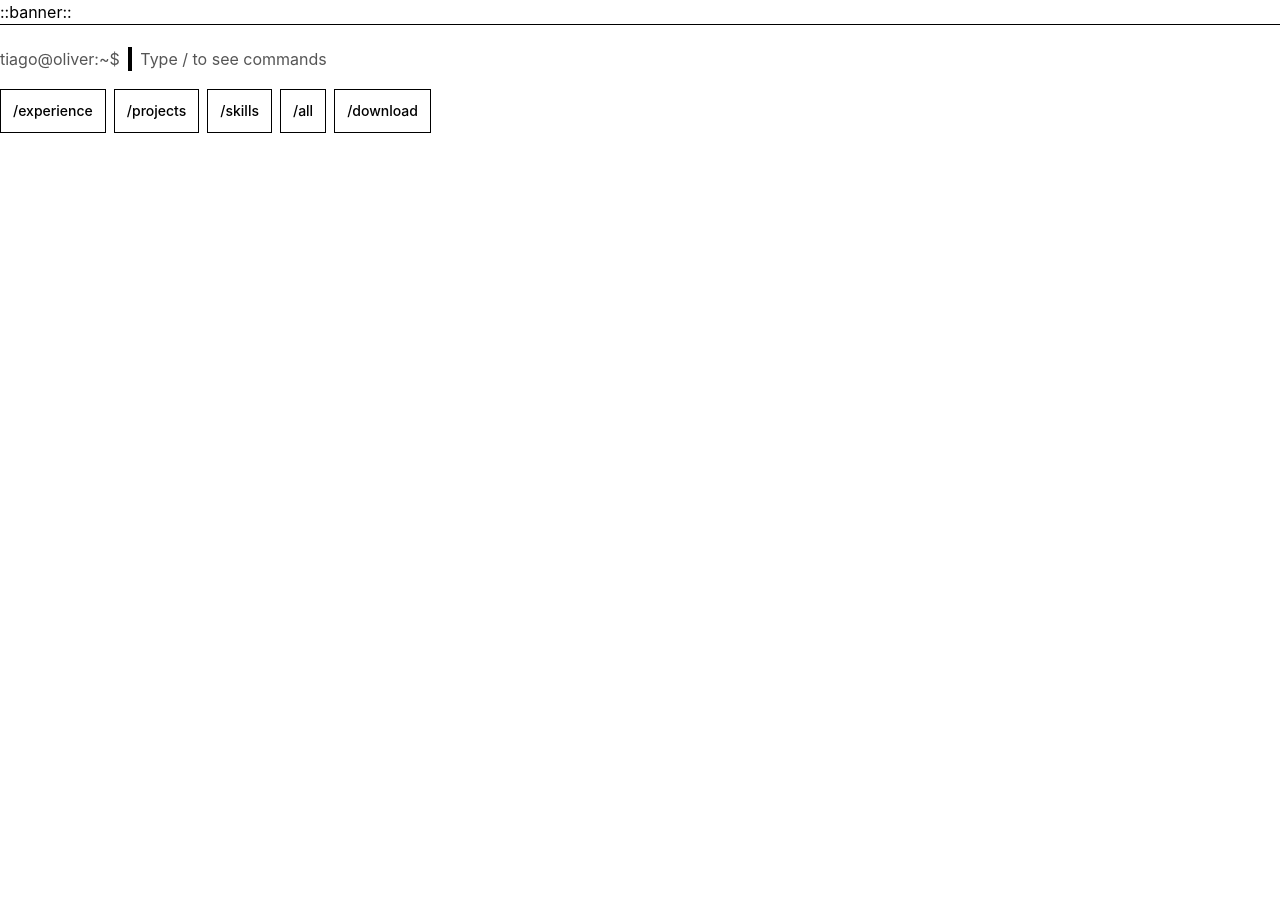
Test: Terminal › Given theme, should switch to the dark theme and say so
The image size is (1280, 900).
Type "/theme" into the dropdown named "Command".
click(704, 59); type("/theme")  # box [128, 37, 1279, 81]
Then press Enter
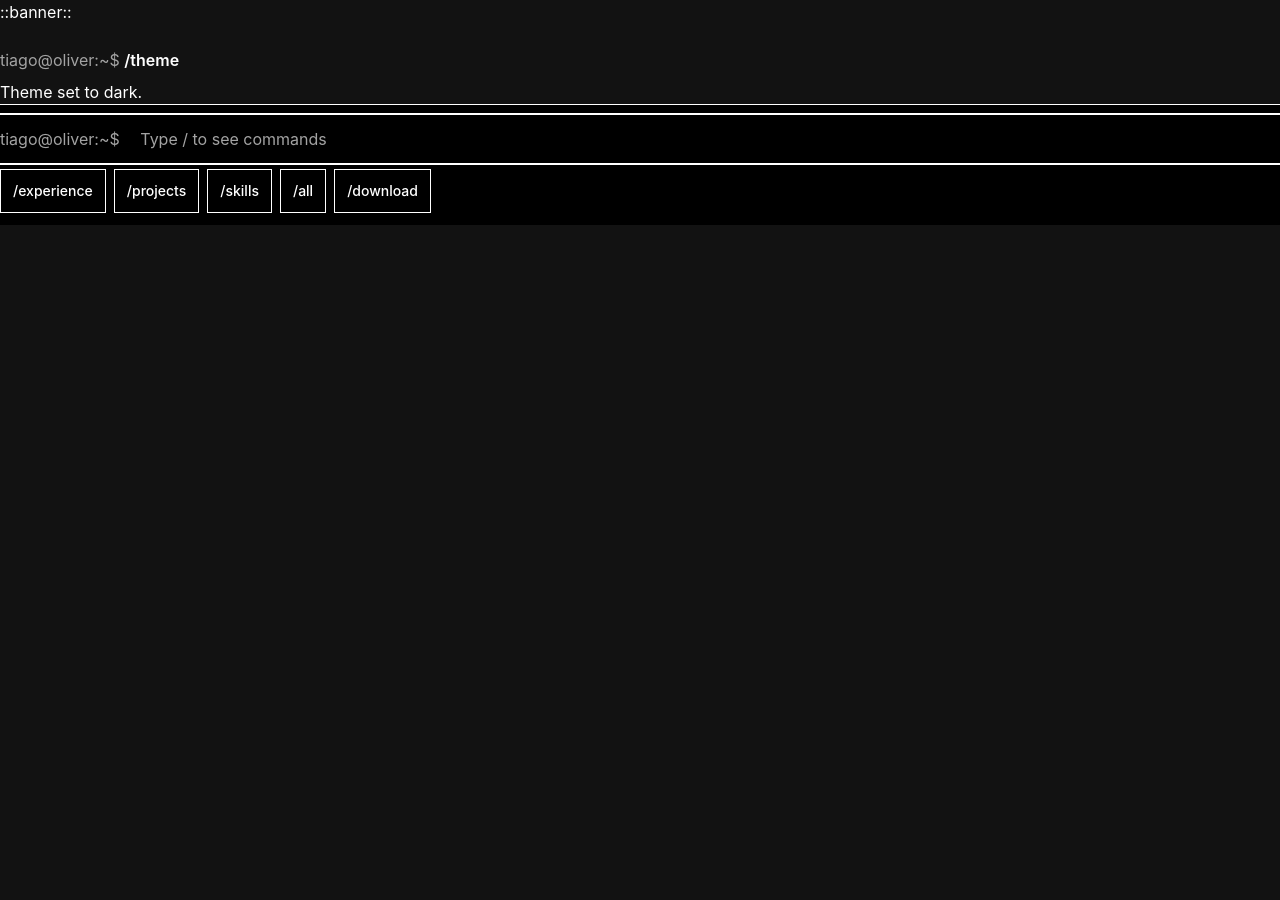
Now the text "Theme set to dark." is shown, box [0, 82, 142, 102]
